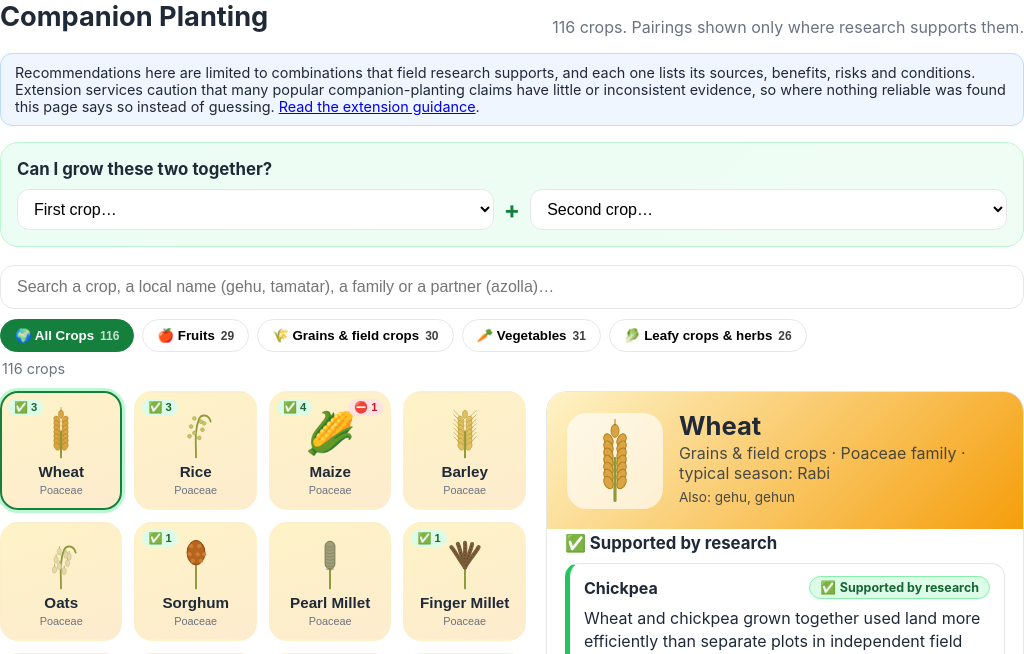
Test case: the checker says "insufficient evidence" plainly and offers evidence-based options
The width and height of the screenshot is (1024, 654).
Select "Banana" in the dropdown named "First crop": (255, 210) [17, 189, 494, 230]
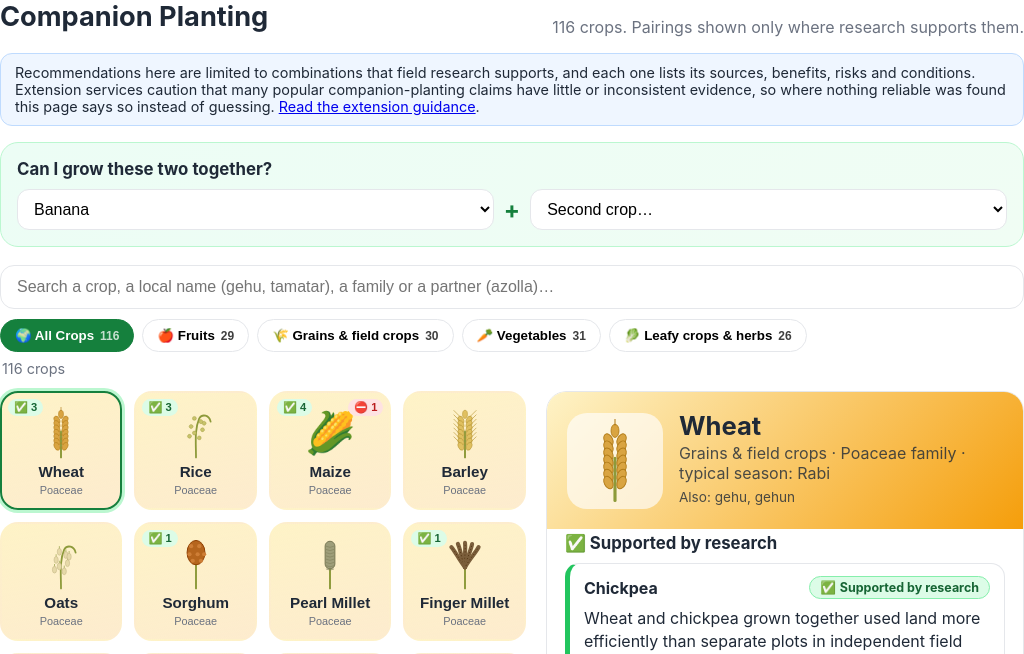
Select "Wheat" in the dropdown named "Second crop": (769, 210) [530, 189, 1007, 230]
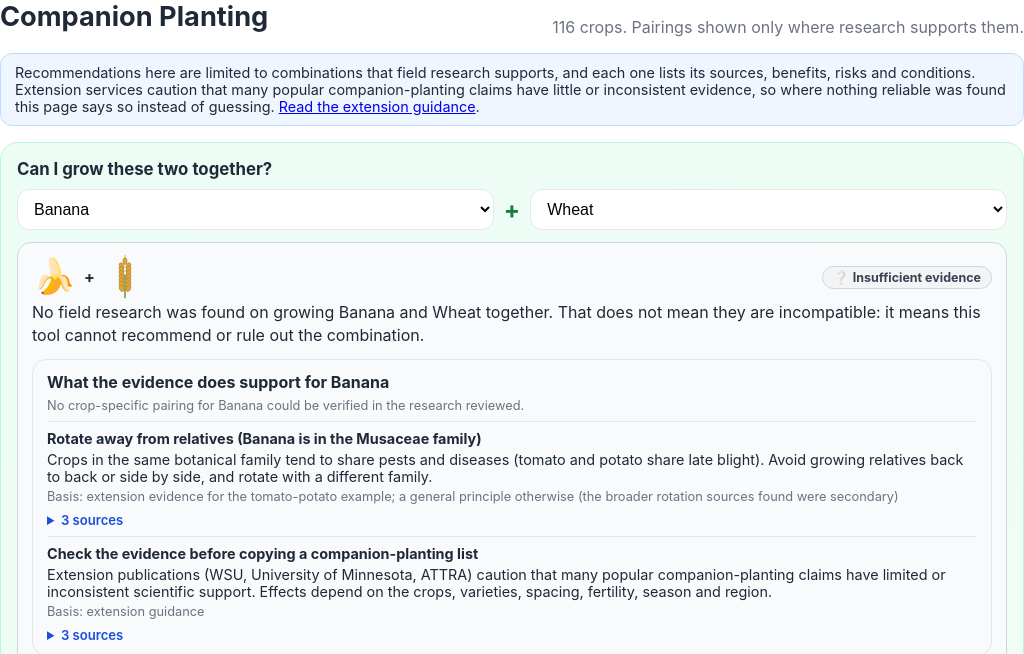
Expected: the text "does not mean they are incompatible" is shown, [32, 302, 981, 345]
Expected: the text "Rotate away from relatives" is shown, [47, 430, 482, 447]
